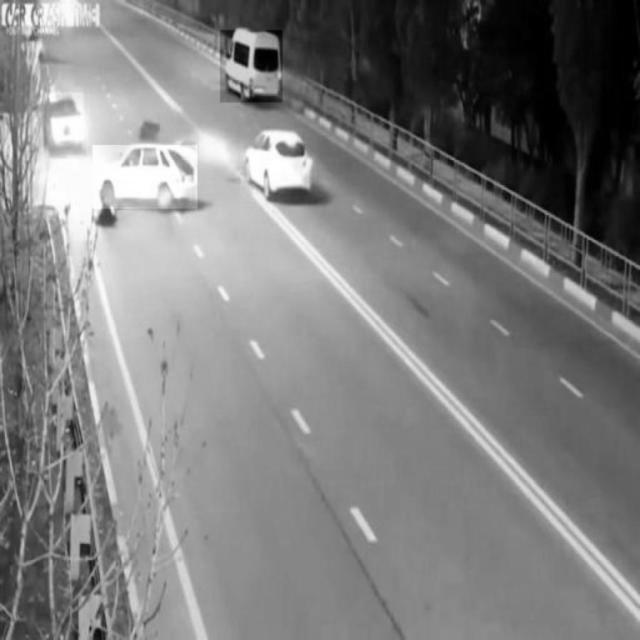vehicle: (93, 145, 197, 209), (240, 129, 316, 201), (220, 30, 282, 103), (46, 93, 83, 157)
